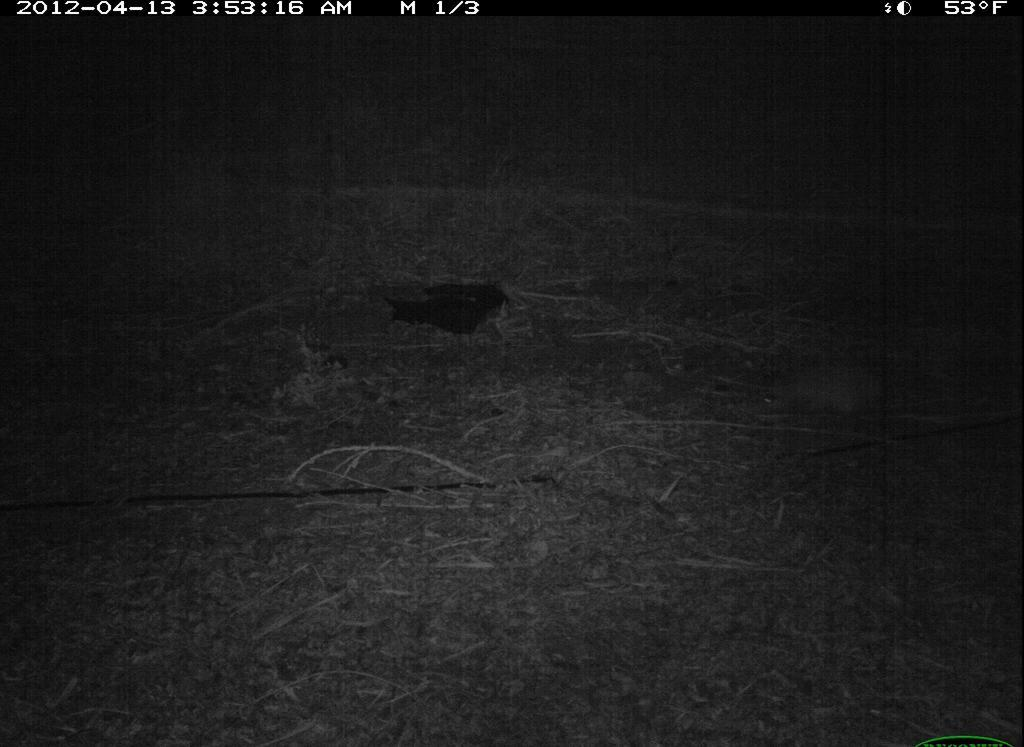opossum: (734, 335, 931, 456)
